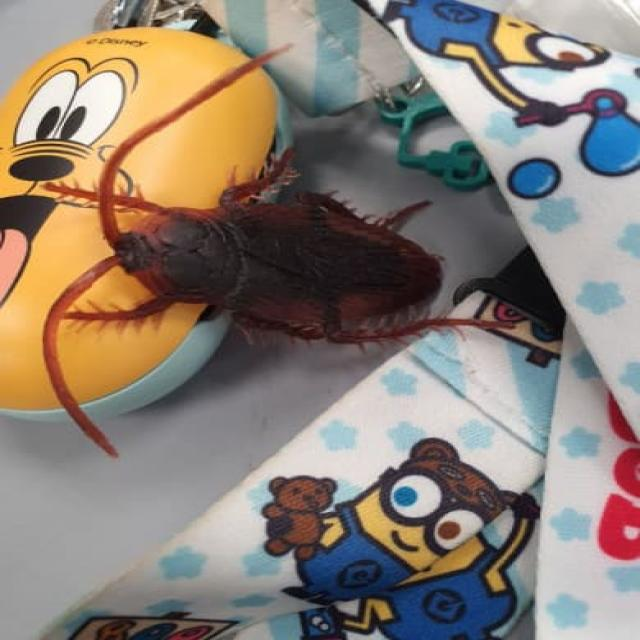Cockroach: (43, 64, 510, 438)
